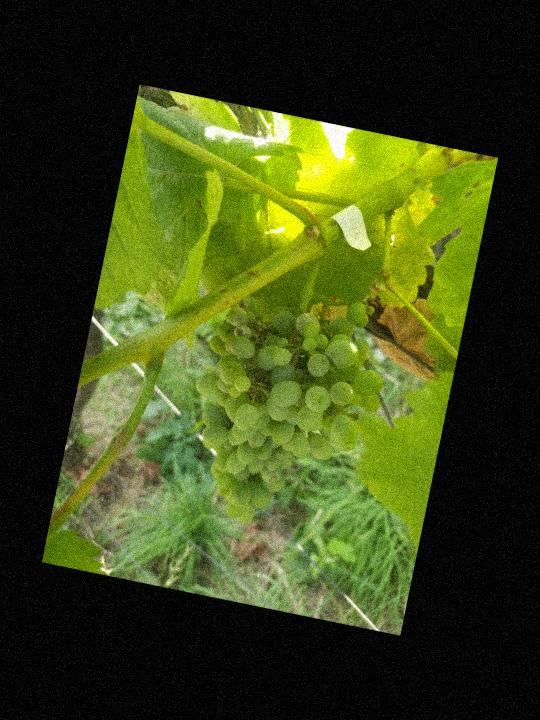grape: (165, 271, 413, 554)
